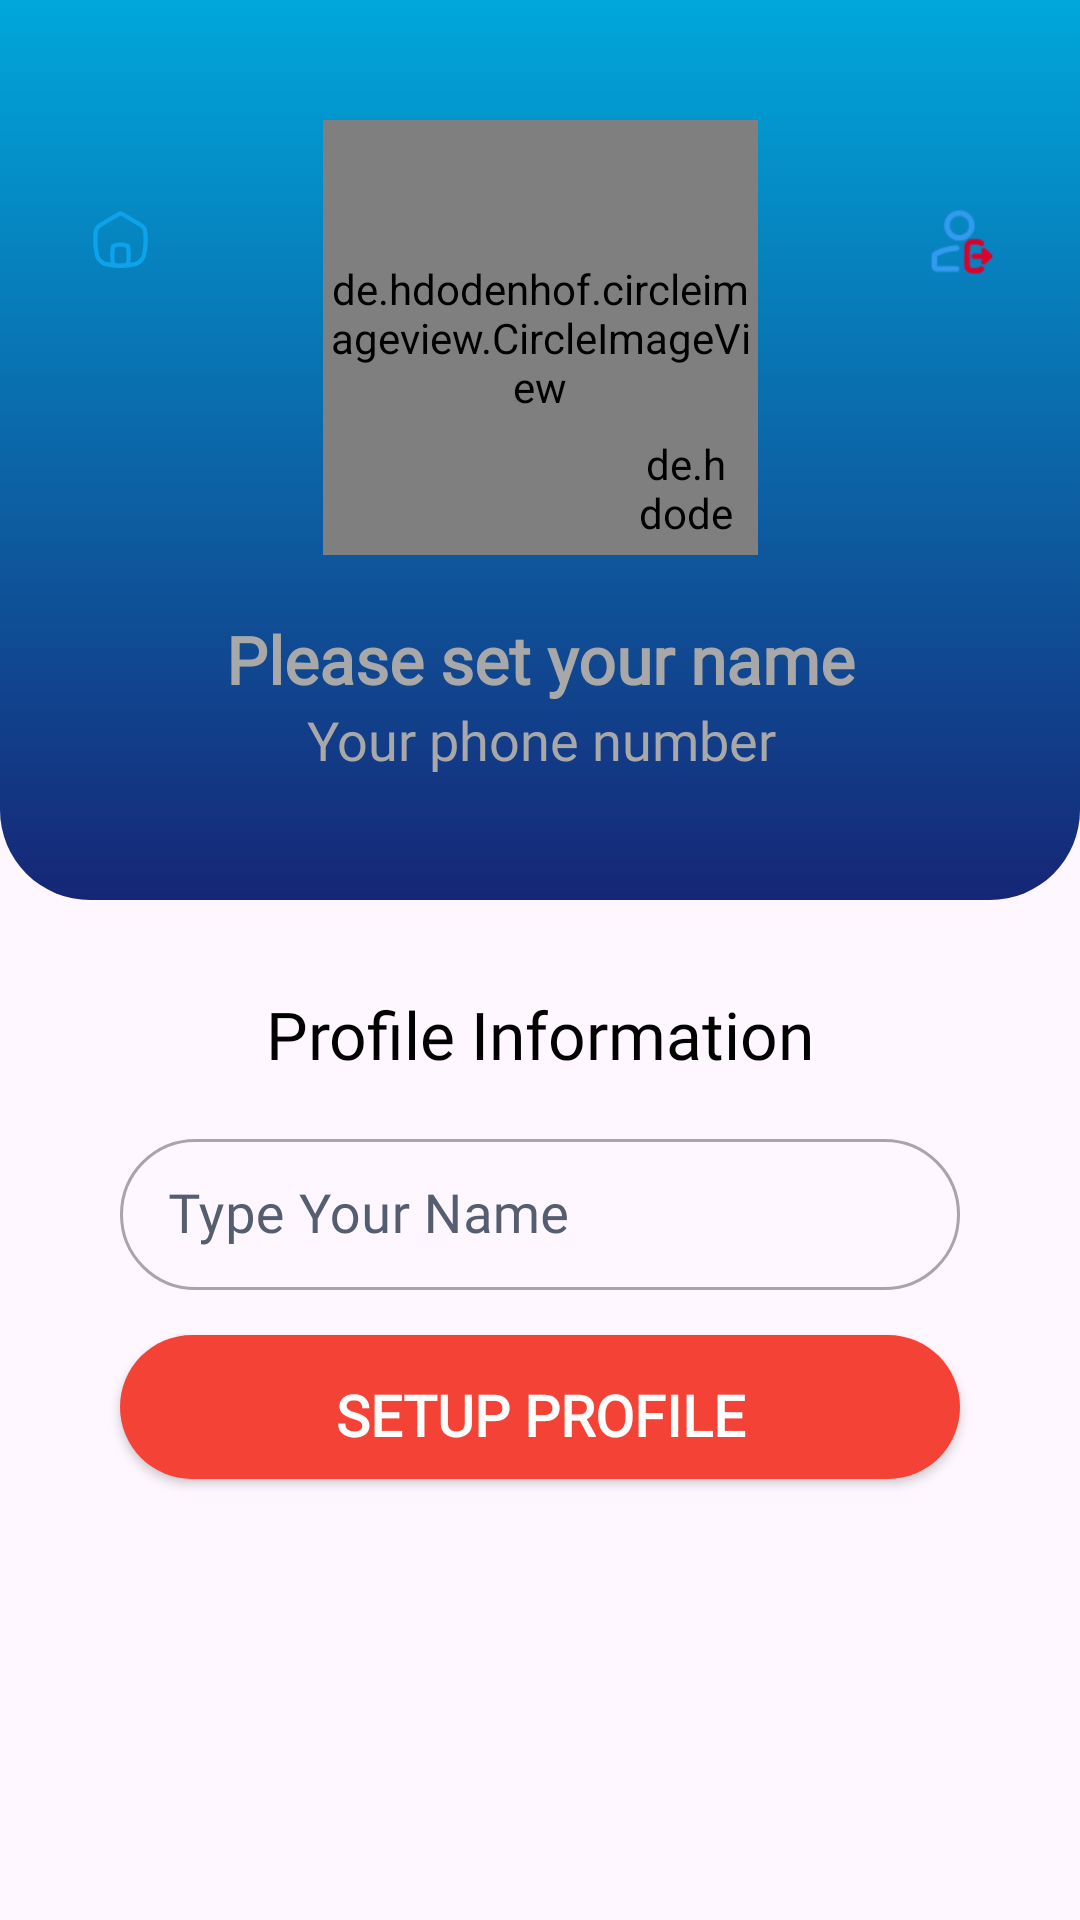

Icons on this 1080x1920 Android screen, each with the point to tap as (x=x, y=y):
bottom home: (x=120, y=240)
